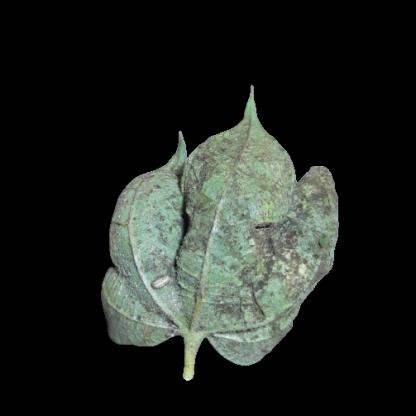curl_stage2: (110, 283, 156, 340), (121, 195, 153, 259)
sooty: (236, 186, 308, 305), (155, 239, 216, 305), (190, 147, 230, 244), (307, 171, 335, 272), (220, 301, 286, 343), (153, 189, 194, 240)
